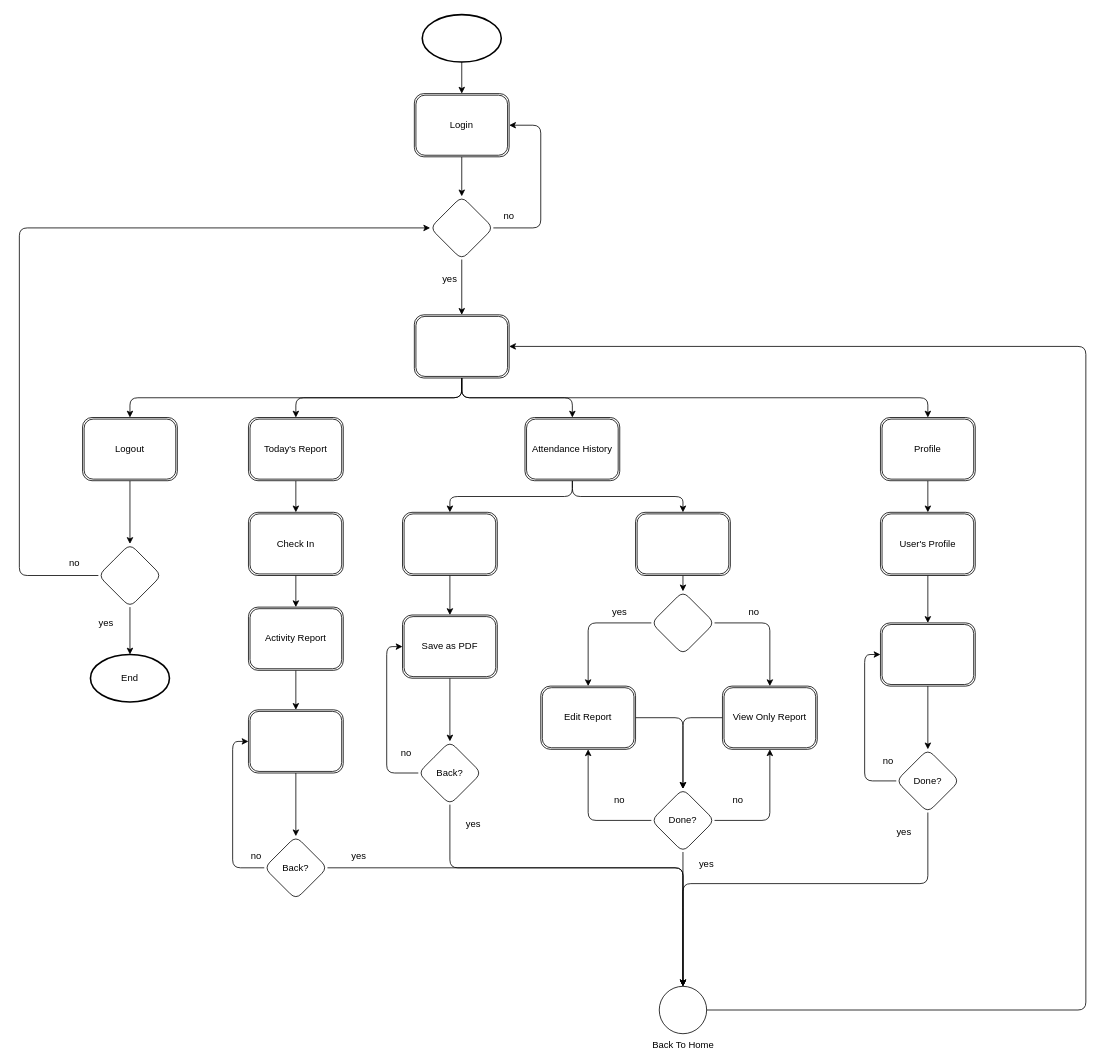
Image size: 1106x1063. Some labels were removed from this diagram. The centre of each missing label's shape, as x and y in pixels:
"App" belongs at (x=461, y=37).
"Check out" belongs at (x=295, y=741).
"Close?" belongs at (x=130, y=575).
"Edit" belongs at (x=927, y=654).
"Home" belongs at (x=461, y=346).
"Make Report" belongs at (x=449, y=544).
"Select Report" belongs at (x=682, y=544).
"Today?" belongs at (x=683, y=623).
"Valid User" belongs at (x=461, y=228).
